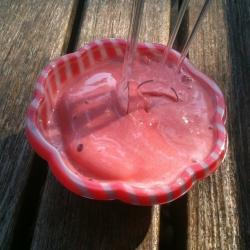icecream: (38, 42, 219, 208)
